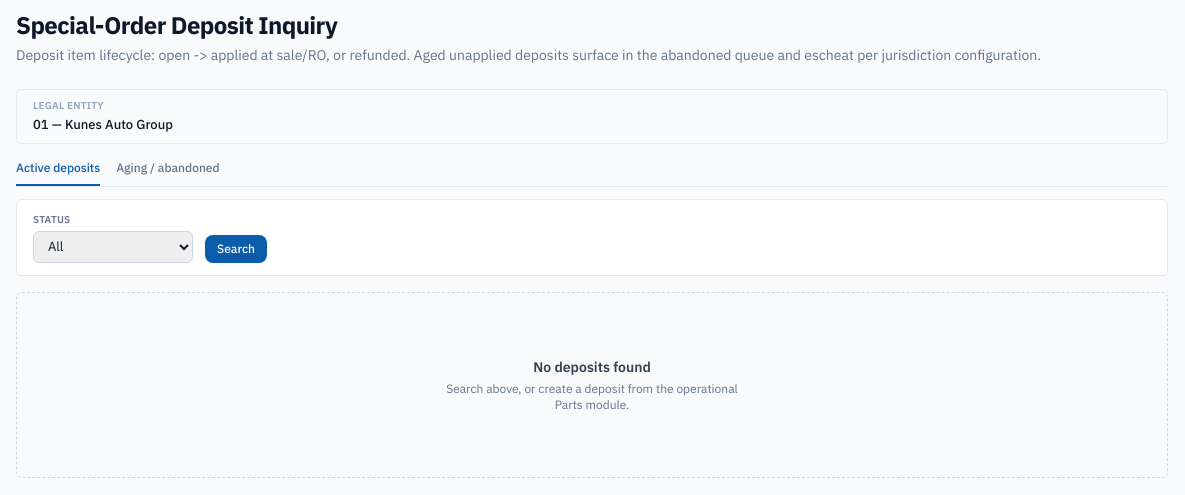
Test case: PartsDeposits › shows the error state on API failure
Click the button with test id "deposits-search".
click(236, 248)  # box [205,234,267,262]
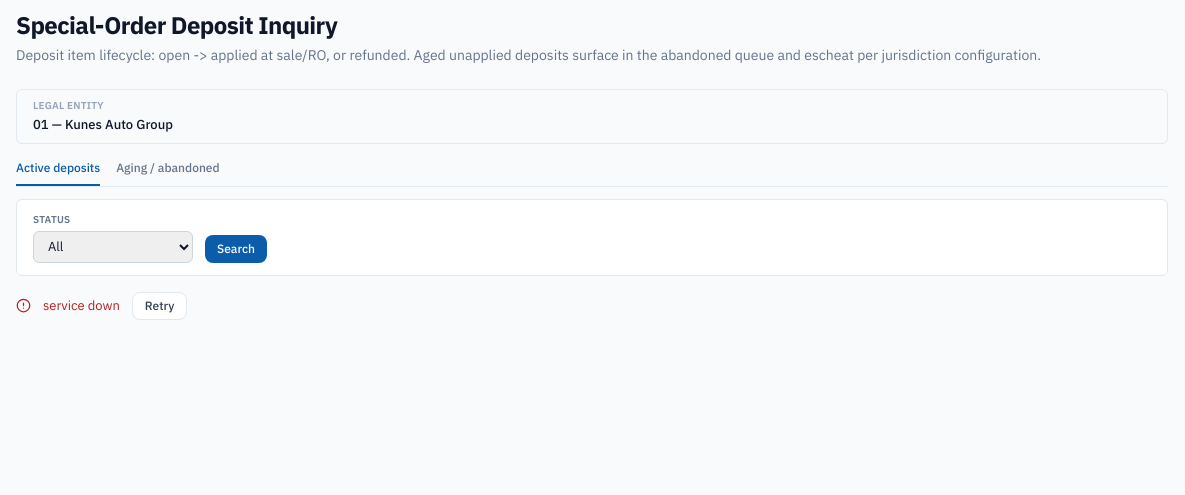
Expected: the element with test id "deposits-error" is shown, [16,292,187,320]
